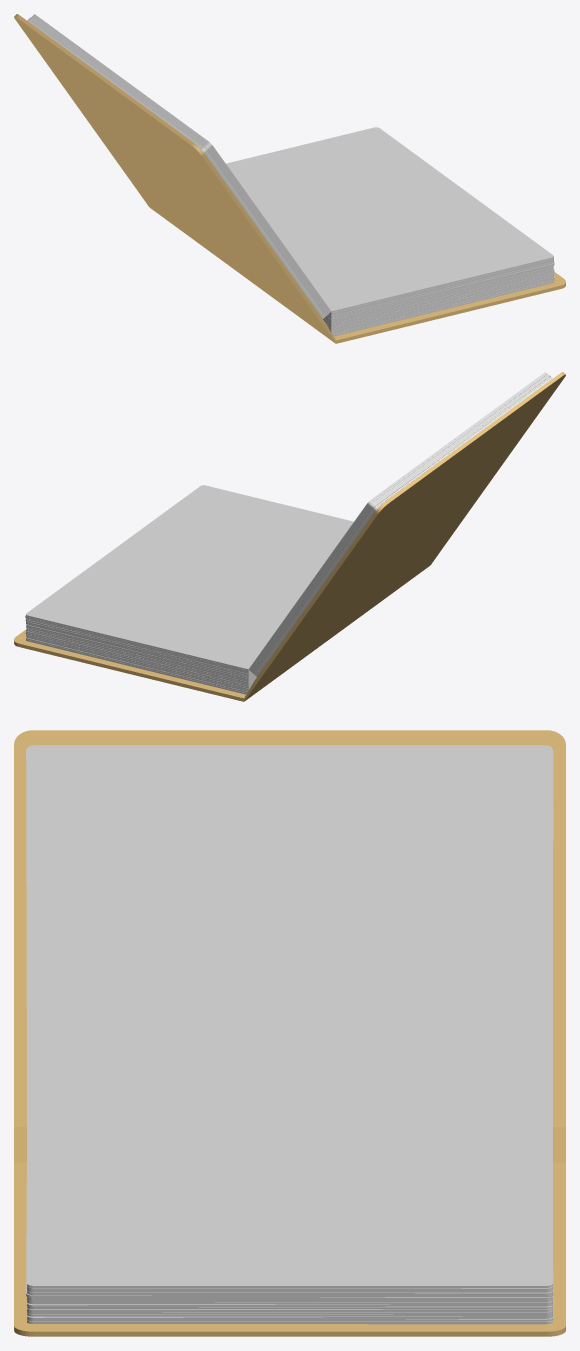
Rendered from Open_Book.fbx.
3 views of the same model, one above another, from view 1: azimuth 30°, elevation 25°; view 2: azimuth 150°, elevation 25°; view 3: azimuth 270°, elevation 25° (orthographic). The views are drawn at different scales.
Parts seen in each view (by area): view 1: Page.015, Binding.001, Page.004, Page.018, Page.011, Page.016, Page.019, Page.022, Page.023, Page.020, Page.001, Page.009 (+12 smaller); view 2: Page.015, Binding.001, Page.004, Page.018, Page.011, Page.016, Page.022, Page.019, Page.023, Page.009, Page.013, Page.001 (+12 smaller); view 3: Page.016, Page.015, Binding.001, Page.014, Page.002, Page.006, Page.001, Page.008, Page.020, Page.009, Page.017, Page.021 (+6 smaller).
Boxes of the visible parts, <box> form: Page.015: <box>226,127,553,312</box>; Binding.001: <box>14,14,565,343</box>; Page.004: <box>28,18,326,316</box>; Page.018: <box>32,15,329,313</box>; Page.011: <box>30,17,327,315</box>; Page.016: <box>33,14,331,312</box>; Page.019: <box>31,16,328,314</box>; Page.022: <box>27,19,324,317</box>; Page.023: <box>28,21,323,318</box>; Page.020: <box>327,262,554,318</box>; Page.001: <box>323,268,554,325</box>; Page.009: <box>326,272,554,328</box>; Page.015: <box>26,485,353,670</box>; Binding.001: <box>14,372,565,701</box>; Page.004: <box>253,376,550,674</box>; Page.018: <box>250,373,547,671</box>; Page.011: <box>252,375,550,673</box>; Page.016: <box>248,372,546,670</box>; Page.022: <box>255,377,552,675</box>; Page.019: <box>251,374,548,672</box>; Page.023: <box>256,378,552,676</box>; Page.009: <box>26,631,253,686</box>; Page.013: <box>26,624,254,680</box>; Page.001: <box>26,628,256,683</box>; Page.016: <box>27,745,552,1124</box>; Page.015: <box>27,1124,552,1287</box>; Binding.001: <box>14,730,565,1336</box>; Page.014: <box>27,1289,552,1295</box>; Page.002: <box>27,1315,552,1319</box>; Page.006: <box>27,1320,552,1324</box>; Page.001: <box>27,1302,552,1307</box>; Page.008: <box>27,1305,552,1309</box>; Page.020: <box>26,1183,553,1297</box>; Page.009: <box>27,1307,552,1312</box>; Page.017: <box>27,1286,552,1290</box>; Page.021: <box>27,1310,552,1314</box>.
Bounding box in the file's own units: 1.16 × 1.33 × 0.7838.
